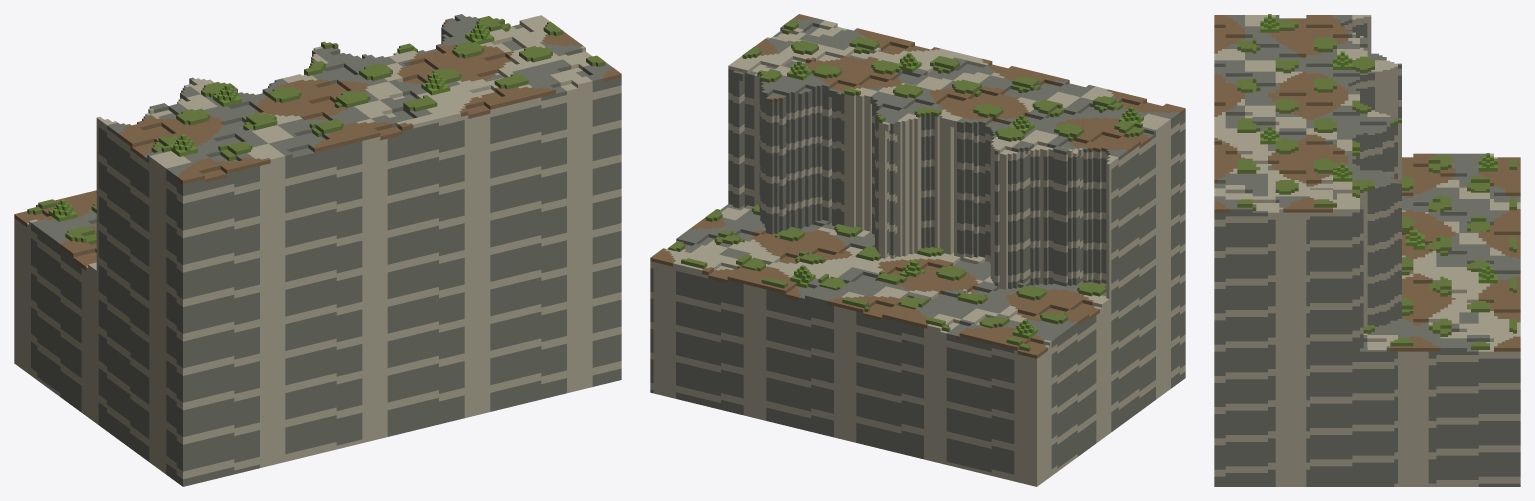
The model's file is visual-far.glb.
3 renders of one model, left to right at view 1: azimuth 30°, elevation 25°; view 2: azimuth 150°, elevation 25°; view 3: azimuth 270°, elevation 25°, orthographic. The views are drawn at different scales.
Visible parts, largest first — view 1: 节理裂隙分层岩台母版; view 2: 节理裂隙分层岩台母版; view 3: 节理裂隙分层岩台母版.
Boxes of the visible parts, x1=… form: 节理裂隙分层岩台母版: x1=14, y1=14, x2=621, y2=486; 节理裂隙分层岩台母版: x1=650, y1=14, x2=1185, y2=486; 节理裂隙分层岩台母版: x1=1214, y1=14, x2=1520, y2=486.
Size of the model in its own units: 24 by 16.8 by 16.
Materials: 5 (5 with a texture image).
